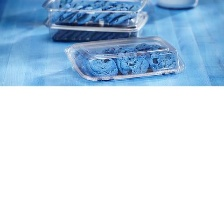plastic_box: (59, 31, 188, 85), (34, 0, 154, 47)
